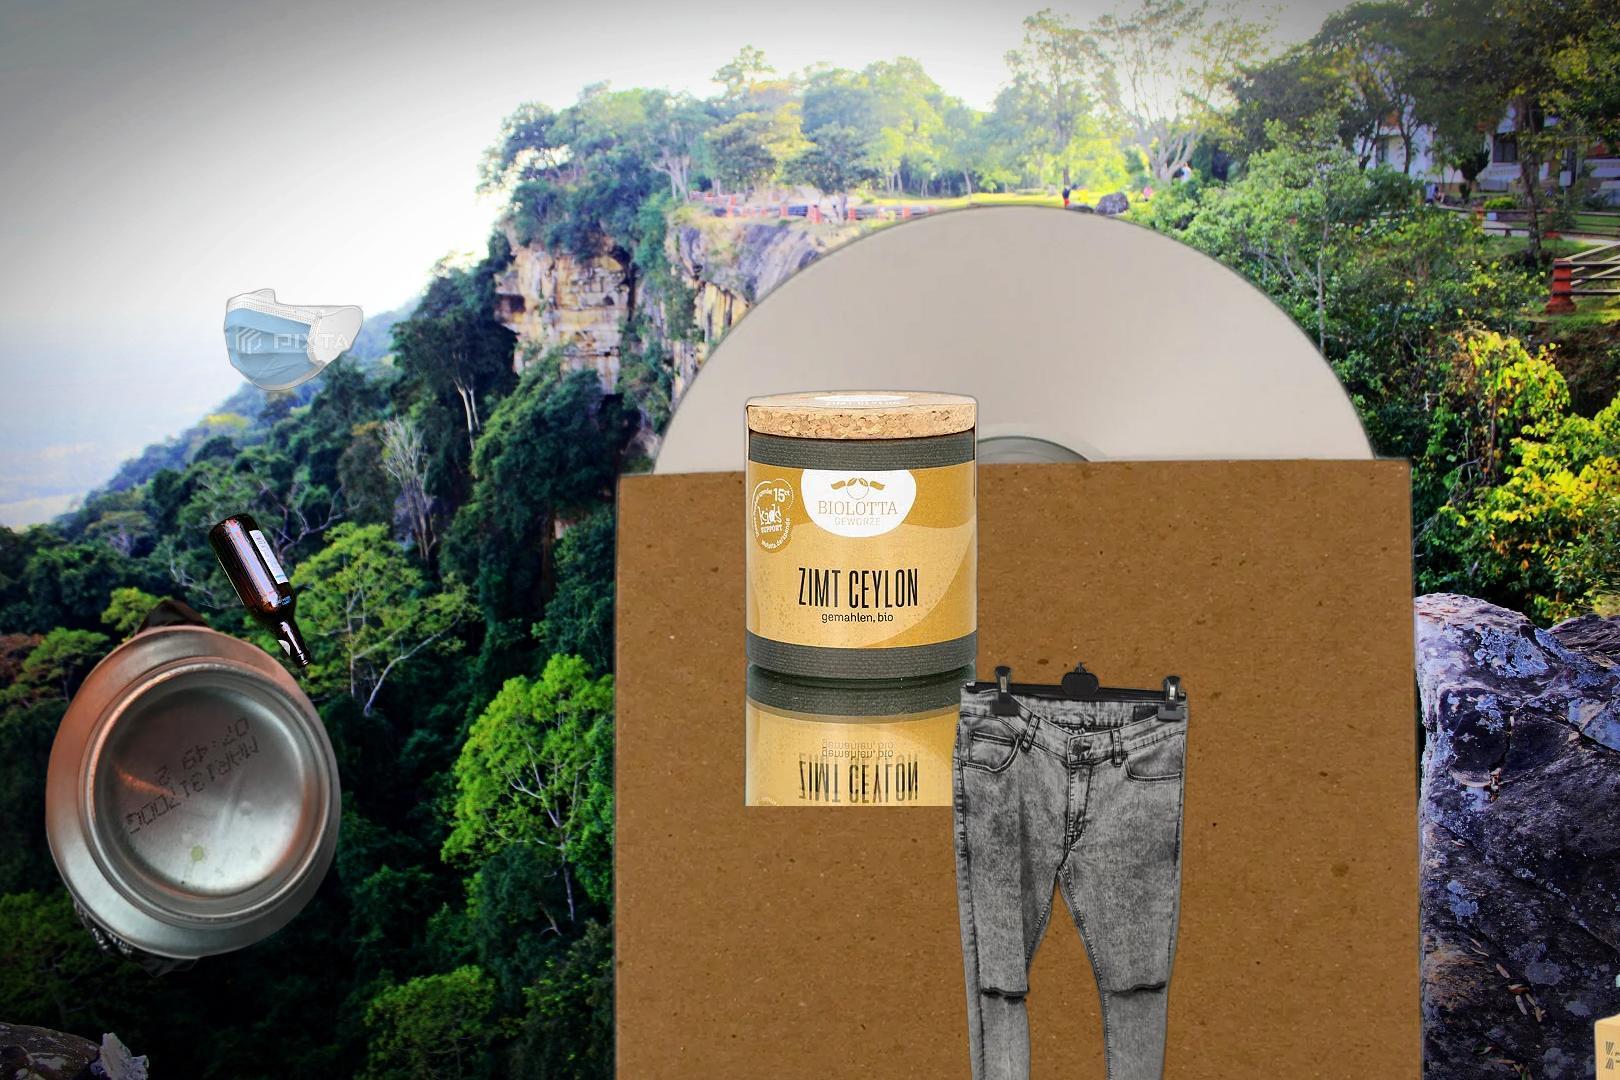clothes: (947, 662, 1195, 1080)
glass: (204, 507, 318, 677)
metal-cans: (41, 595, 347, 979)
trash: (221, 286, 366, 393), (1612, 949, 1620, 1080)
trashbox-cardboard: (603, 187, 1437, 1080), (740, 387, 984, 806), (1583, 916, 1620, 1080)
